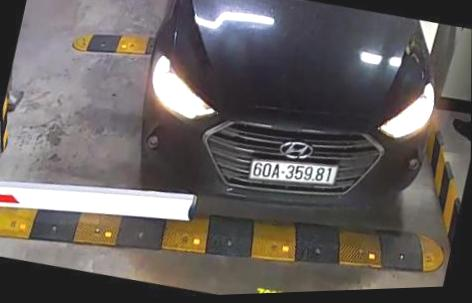License_Plate: (245, 149, 340, 197)
